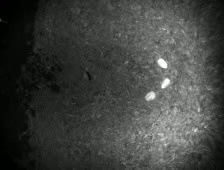corn: (143, 89, 158, 103), (155, 56, 169, 70), (160, 76, 172, 90)
